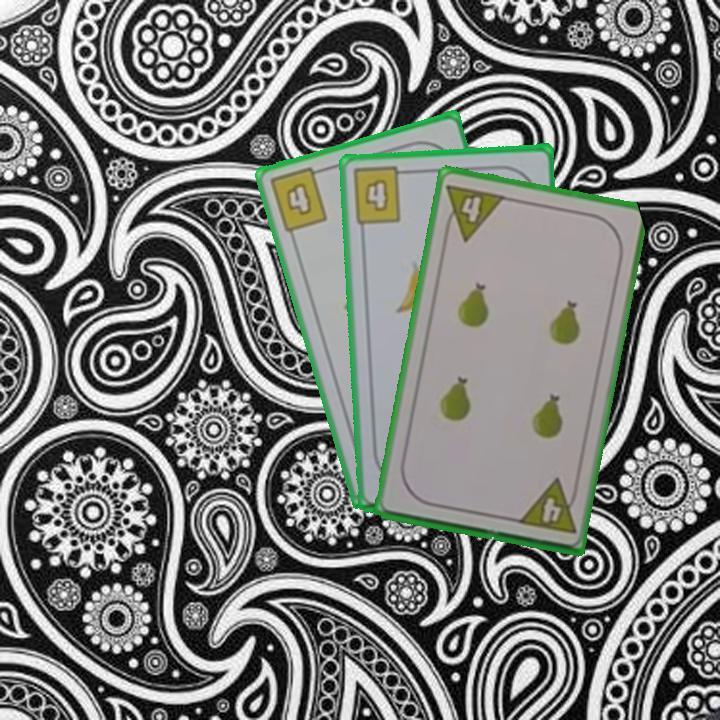4b: (265, 163, 330, 235), (348, 164, 413, 227)
4p: (439, 180, 508, 244), (514, 475, 581, 537)
